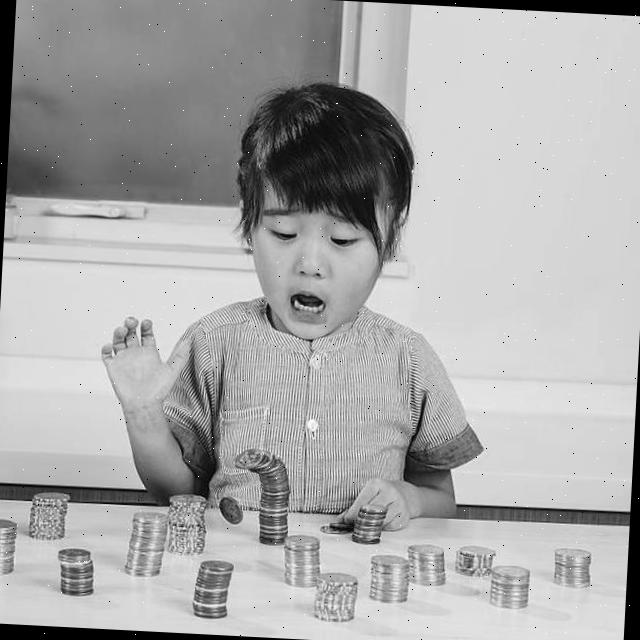Fear: (246, 163, 390, 344)
